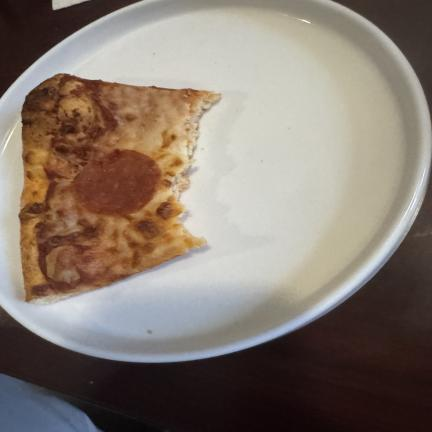pizza: (20, 75, 219, 303)
